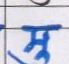u_matra: (8, 53, 51, 63)
